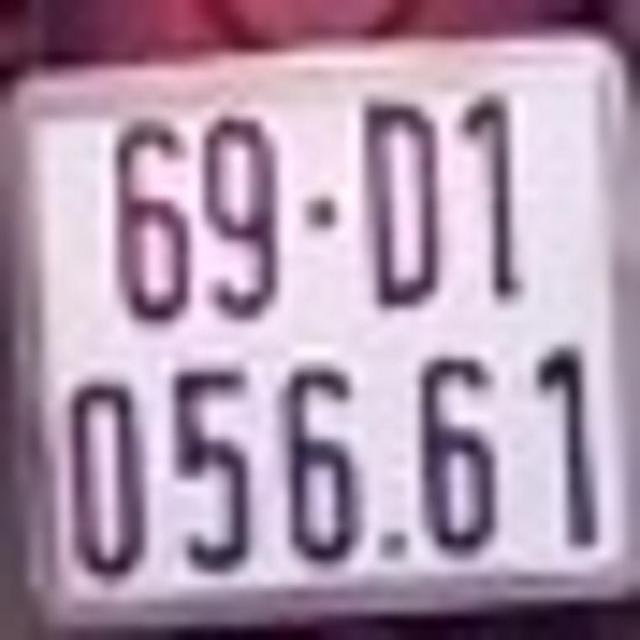0: (64, 371, 160, 584)
1: (528, 331, 606, 551), (466, 94, 523, 302)
5: (162, 360, 257, 581)
6: (110, 113, 200, 329), (413, 347, 503, 560), (276, 351, 360, 564)
9: (204, 111, 284, 332)
D: (361, 98, 448, 312)
